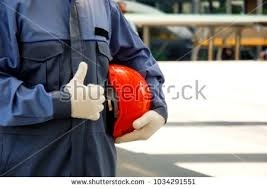person without safety: (1, 1, 155, 178)
